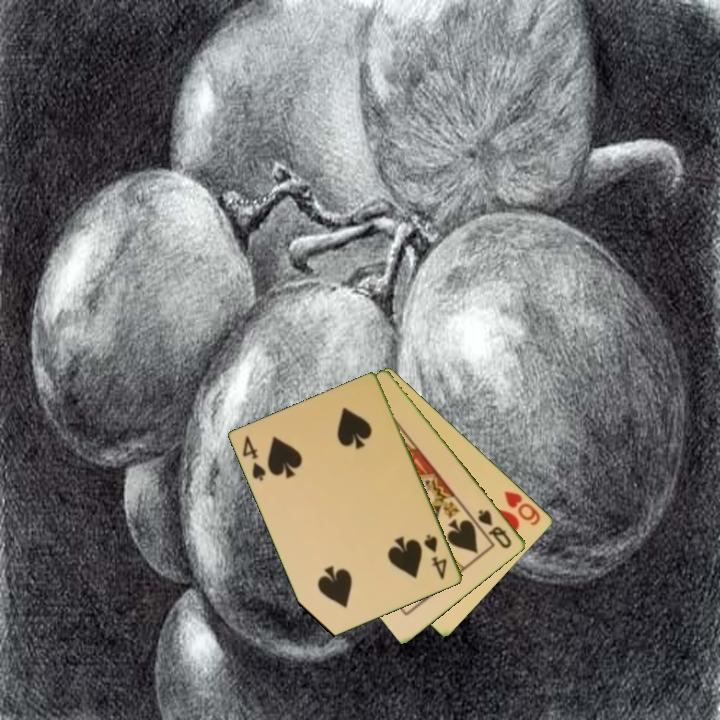4s: (239, 432, 269, 484), (421, 531, 450, 583)
6h: (501, 487, 544, 528)
Qs: (474, 506, 515, 552)
